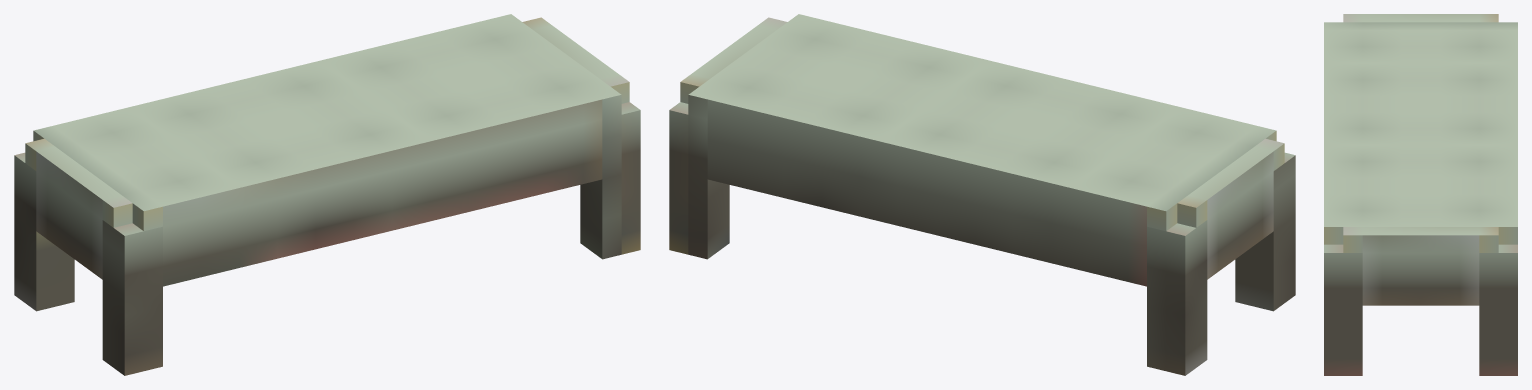
File: Footrest_00.obj
The picture shows the model from 3 angles, left to right: view 1: azimuth 30°, elevation 25°; view 2: azimuth 150°, elevation 25°; view 3: azimuth 270°, elevation 25°; orthographic projection. The views are drawn at different scales.
Parts seen in each view (by area): view 1: Footrest_00; view 2: Footrest_00; view 3: Footrest_00.
Part boxes in pixels (box(x1,y1,x2,y2)): Footrest_00: box(14, 14, 640, 375); Footrest_00: box(669, 14, 1295, 375); Footrest_00: box(1324, 14, 1517, 375).
Bounding box in the file's own units: 1.35 × 0.4 × 0.5.
